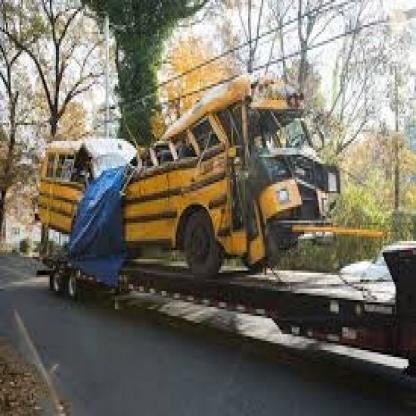accident: (37, 80, 352, 302)
